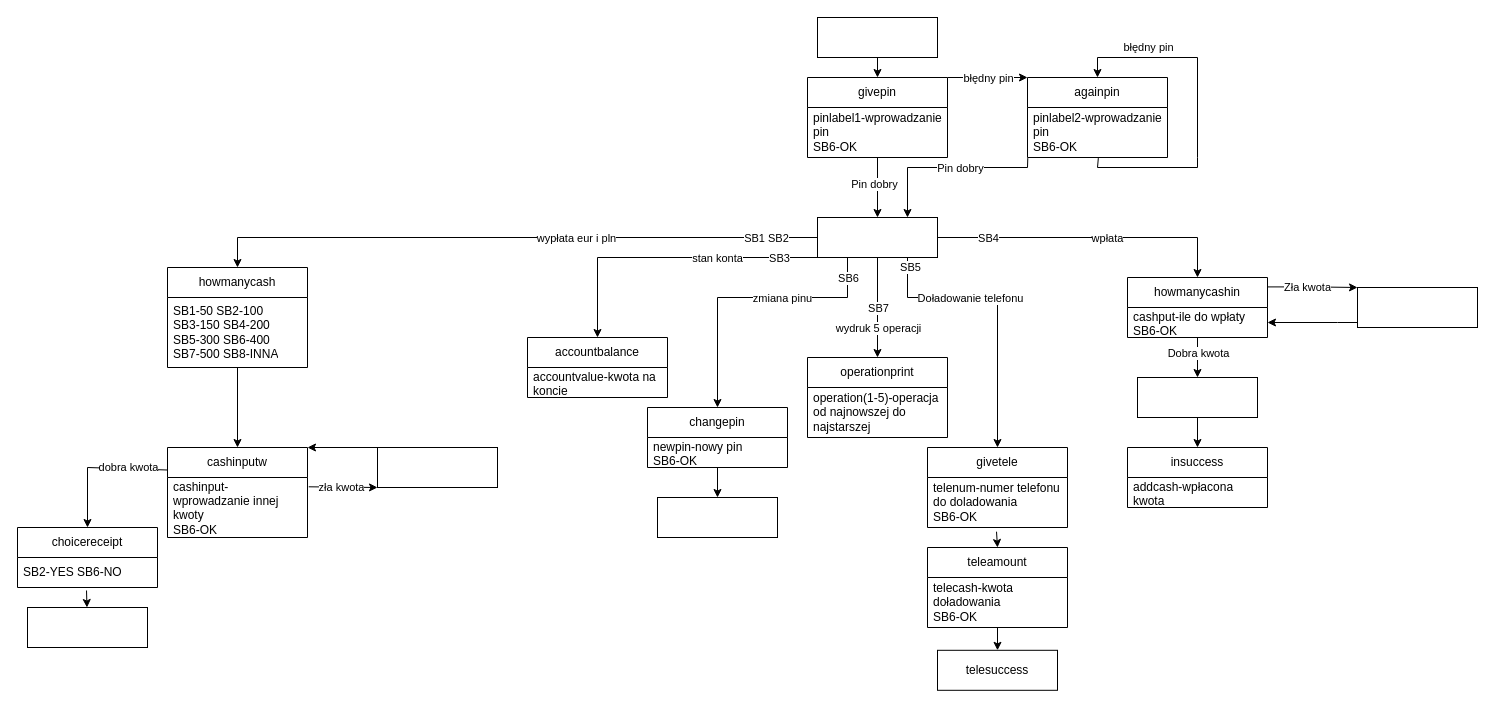
This 1495x708 diagram has some shape labels left out. The shapes that lost their labels are listed below. From the top down, each one's centre as x and y in pixels, then its label:
At (x=877, y=37): "hello".
At (x=877, y=237): "operationchoice".
At (x=1417, y=307): "errorin".
At (x=1197, y=397): "cashinwait".
At (x=437, y=467): "errorinputcash".
At (x=717, y=517): "pinsuccess".
At (x=87, y=627): "waitforcash".
